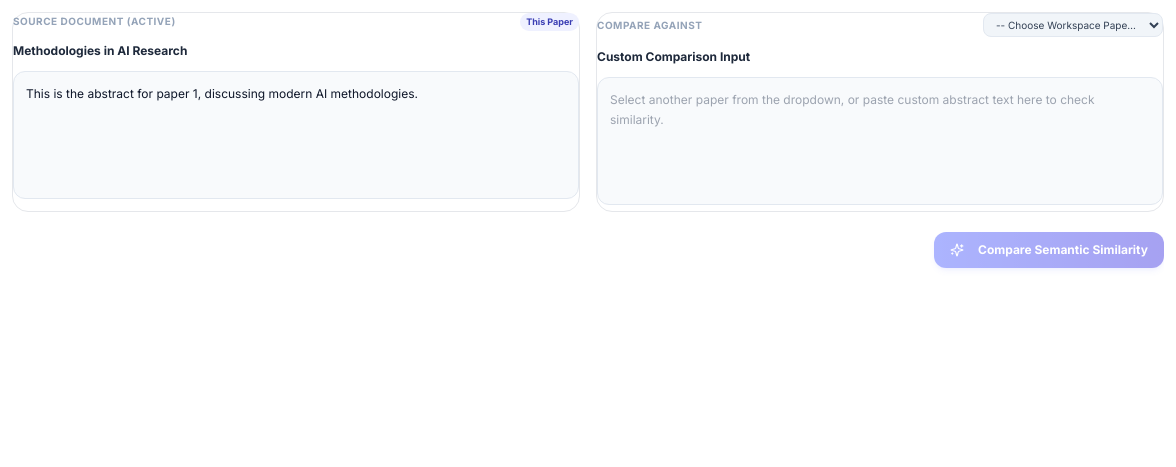
Scenario: AI Insights Panels UI Components › SimilarityPanel › calculates score and renders correct alignment ring on analyze click
# Select paper 2
Select "A Deep Dive into Neural Networks" in the dropdown at {"x": 1073, "y": 25}, box [983, 13, 1163, 37]
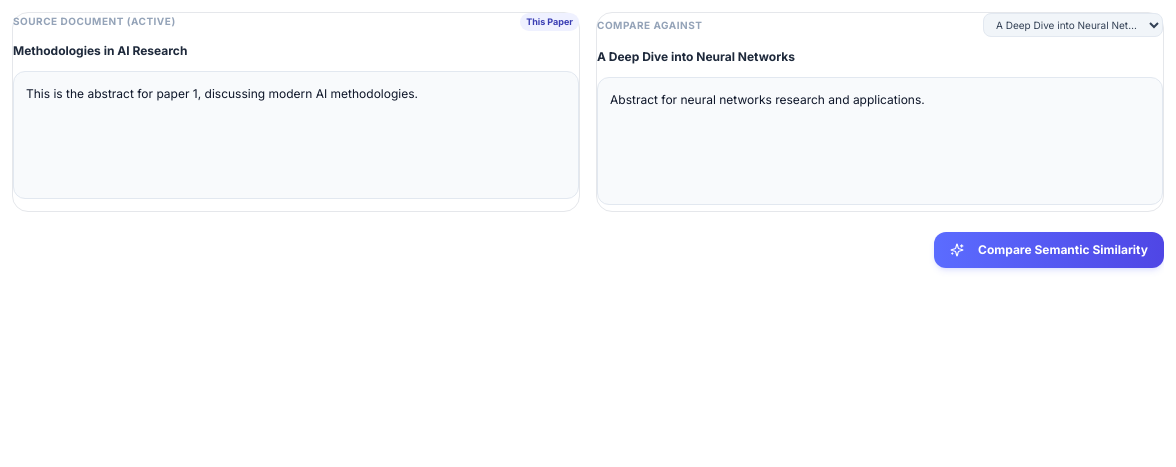
Click the button "Compare Semantic Similarity" at {"x": 1049, "y": 250}, box [934, 232, 1164, 268]
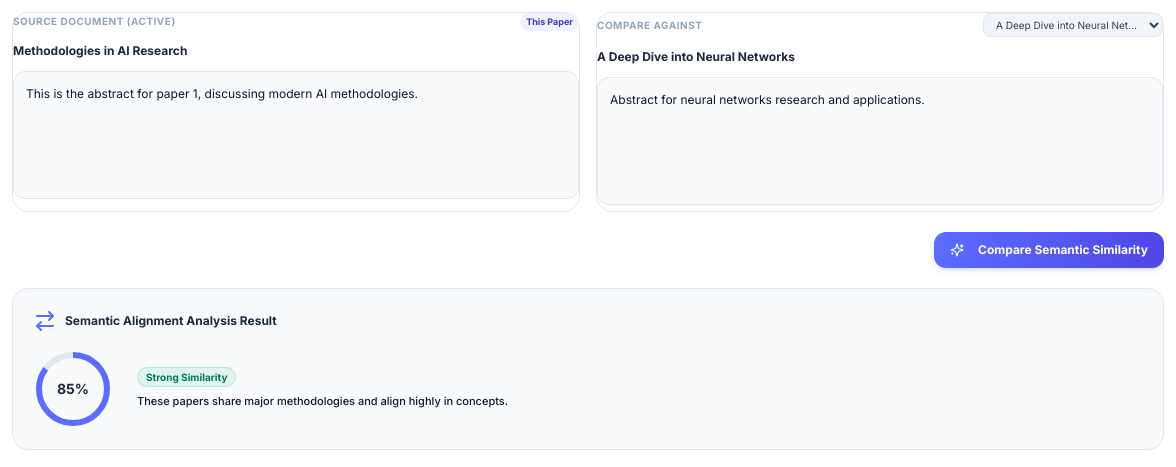
expect the text "85%" is shown: met, box [57, 379, 89, 399]
expect the text "Strong Similarity" is shown: met, box [137, 367, 236, 387]
